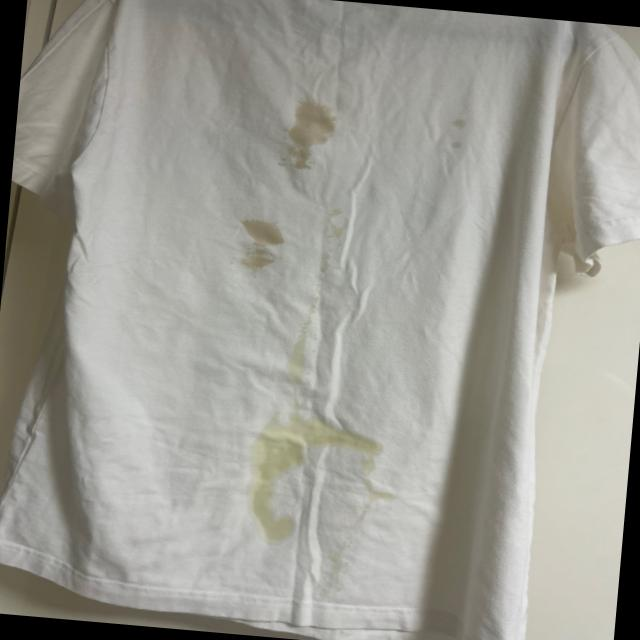stain: (234, 408, 387, 472), (245, 460, 317, 548), (284, 97, 340, 185), (278, 302, 330, 388), (240, 215, 284, 277), (312, 208, 348, 258), (450, 106, 482, 153)
